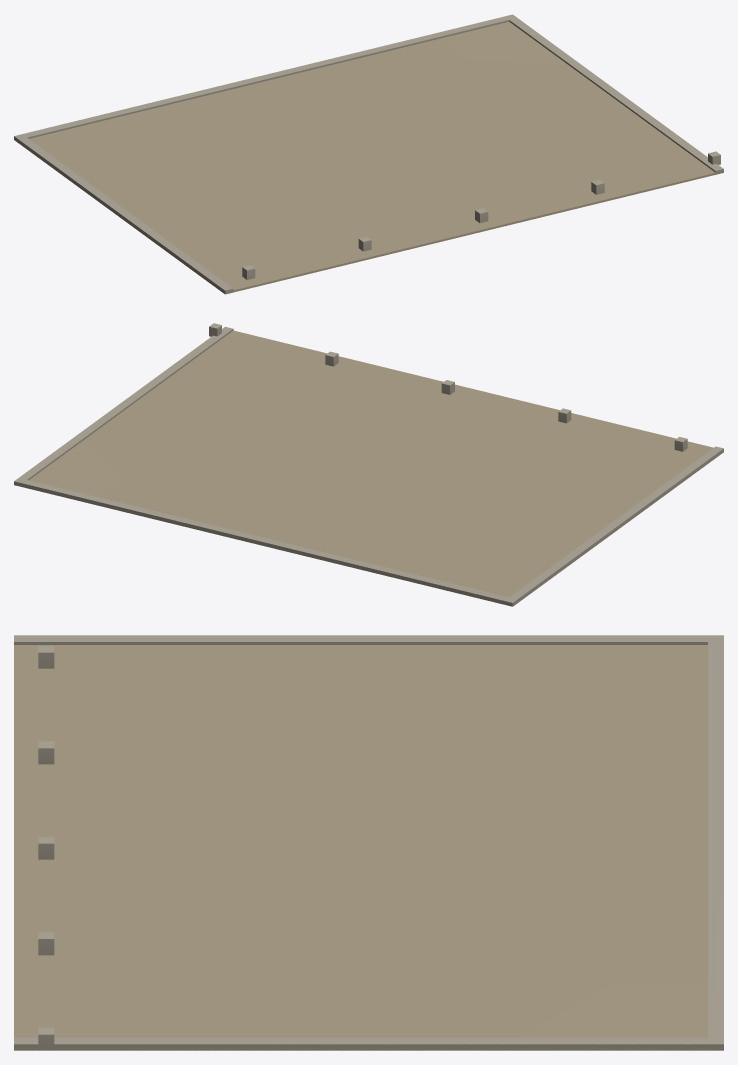
Rendered from republic_apron_lod1.glb.
3 renders of one model, top to bottom at view 1: azimuth 30°, elevation 25°; view 2: azimuth 150°, elevation 25°; view 3: azimuth 270°, elevation 25°, orthographic. The views are drawn at different scales.
Parts seen in each view (by area): view 1: GEO-Arch_republic_apron_LOD1; view 2: GEO-Arch_republic_apron_LOD1; view 3: GEO-Arch_republic_apron_LOD1.
Boxes of the visible parts, left/top/right/bottom form: GEO-Arch_republic_apron_LOD1: left=14, top=14, right=723, bottom=294; GEO-Arch_republic_apron_LOD1: left=14, top=323, right=723, bottom=606; GEO-Arch_republic_apron_LOD1: left=14, top=635, right=723, bottom=1050.
Size of the model in its own units: 30.25 by 0.67 by 22.
